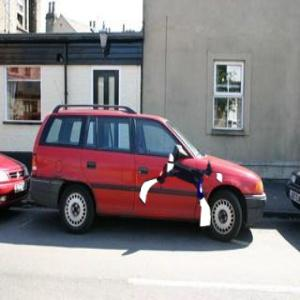drone: (138, 145, 226, 233)
